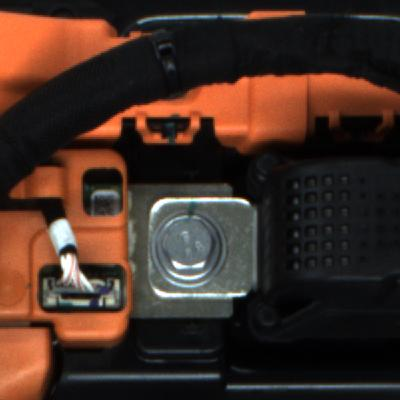nut_b: (148, 203, 230, 288)
